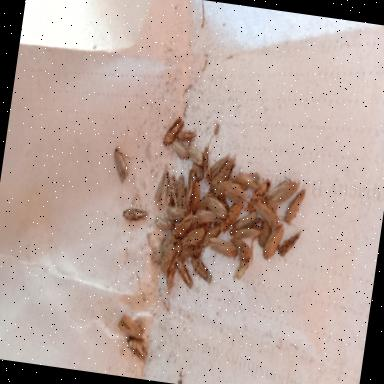pbw: (265, 174, 301, 209), (244, 174, 272, 217), (150, 230, 178, 266), (218, 200, 244, 236), (122, 332, 153, 362), (261, 222, 283, 262), (187, 253, 215, 283), (250, 198, 280, 226), (284, 185, 306, 223), (276, 226, 302, 258), (109, 148, 132, 184), (179, 222, 208, 250), (172, 256, 197, 288), (255, 206, 274, 248), (162, 114, 186, 147), (171, 208, 195, 240), (207, 236, 239, 259), (116, 314, 144, 340), (228, 236, 256, 262), (201, 194, 231, 218), (198, 140, 216, 180), (162, 253, 178, 298), (154, 168, 172, 207), (209, 178, 244, 198), (207, 152, 230, 181), (232, 222, 263, 243), (158, 240, 176, 274), (216, 154, 236, 184), (202, 220, 222, 250), (232, 208, 258, 231), (185, 142, 207, 166), (168, 139, 192, 161), (188, 179, 202, 216), (184, 166, 197, 205), (234, 170, 262, 188), (194, 208, 222, 226), (178, 184, 193, 216), (164, 172, 177, 208), (172, 174, 186, 207), (121, 206, 148, 222), (174, 125, 198, 142), (168, 242, 182, 271), (164, 204, 188, 220), (156, 216, 176, 230), (236, 260, 249, 280)
